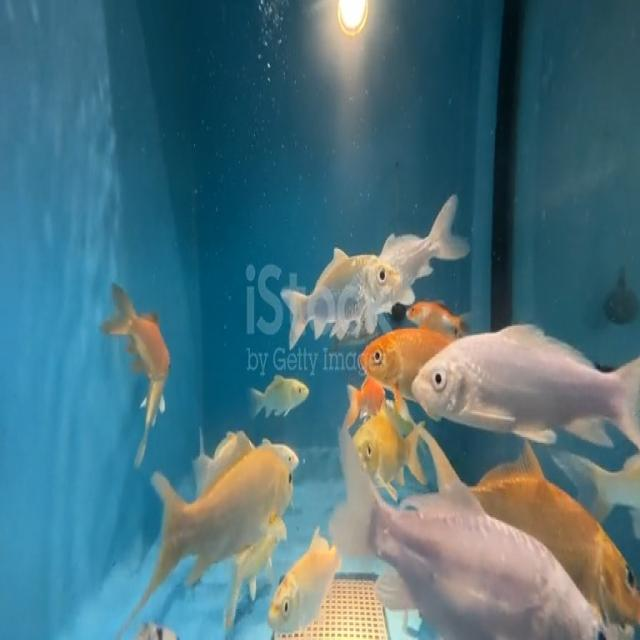fish: (338, 430, 613, 640), (404, 324, 640, 445), (499, 422, 640, 619), (143, 444, 294, 590), (283, 252, 412, 333), (262, 524, 350, 640), (376, 184, 487, 270), (104, 268, 174, 387), (340, 381, 410, 487), (357, 325, 442, 405), (136, 349, 180, 474), (245, 364, 312, 424), (406, 287, 464, 336)
